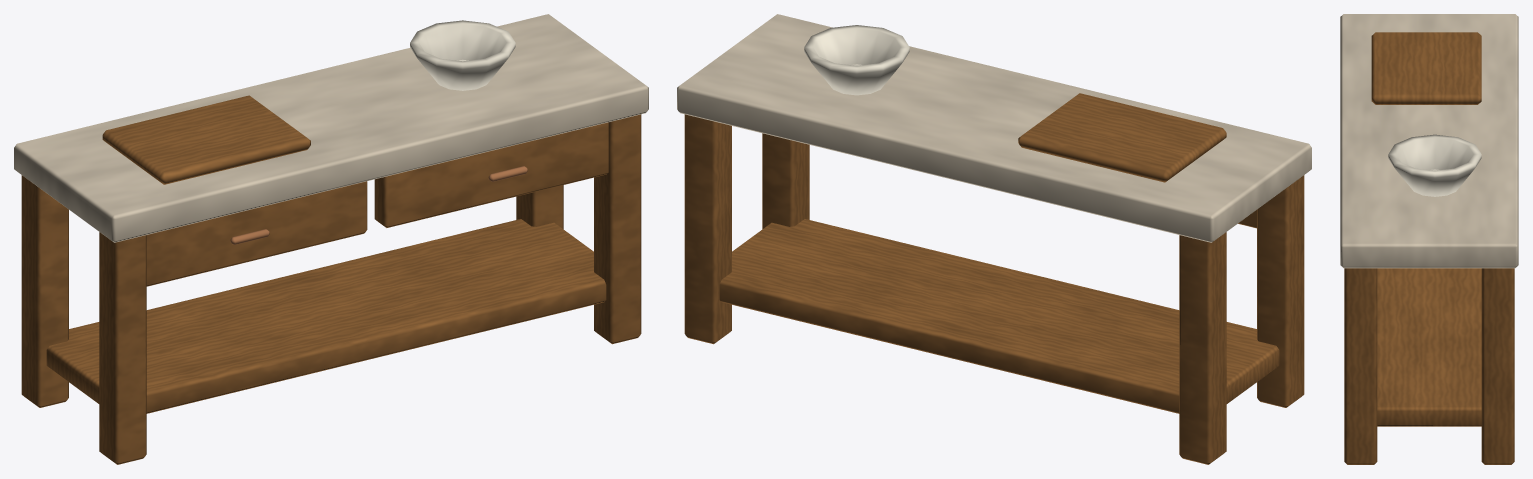
File: Furn_KitchenCounter.fbx
The picture shows the model from 3 angles, left to right: view 1: azimuth 30°, elevation 25°; view 2: azimuth 150°, elevation 25°; view 3: azimuth 270°, elevation 25°; orthographic projection. The views are drawn at different scales.
Parts seen in each view (by area): view 1: Furn_KitchenCounter_Mesh; view 2: Furn_KitchenCounter_Mesh; view 3: Furn_KitchenCounter_Mesh.
Part boxes in pixels (left/top/right/bottom): Furn_KitchenCounter_Mesh: left=14, top=14, right=648, bottom=464; Furn_KitchenCounter_Mesh: left=677, top=14, right=1311, bottom=464; Furn_KitchenCounter_Mesh: left=1340, top=14, right=1518, bottom=464.
Size of the model in its own units: 2 by 1.03 by 0.65.
